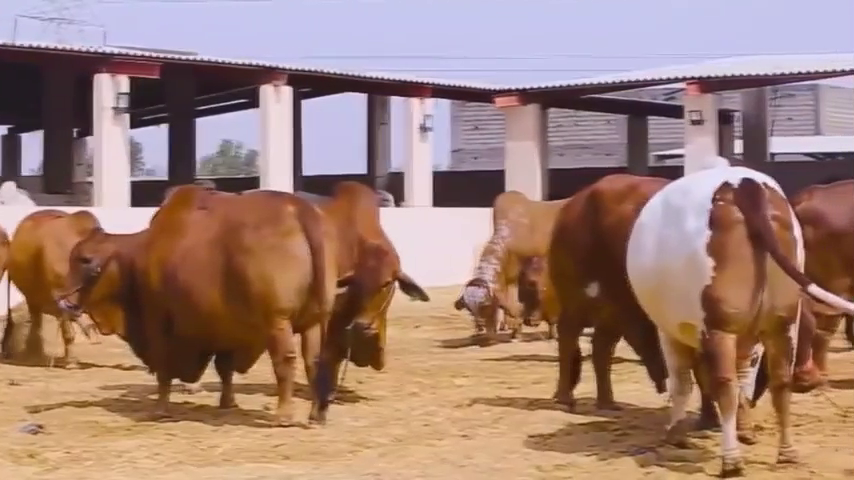bo: (60, 175, 340, 429), (617, 161, 808, 476), (538, 160, 668, 413), (310, 167, 433, 377), (451, 168, 560, 356), (6, 204, 105, 372), (789, 175, 854, 400), (515, 249, 557, 340)
